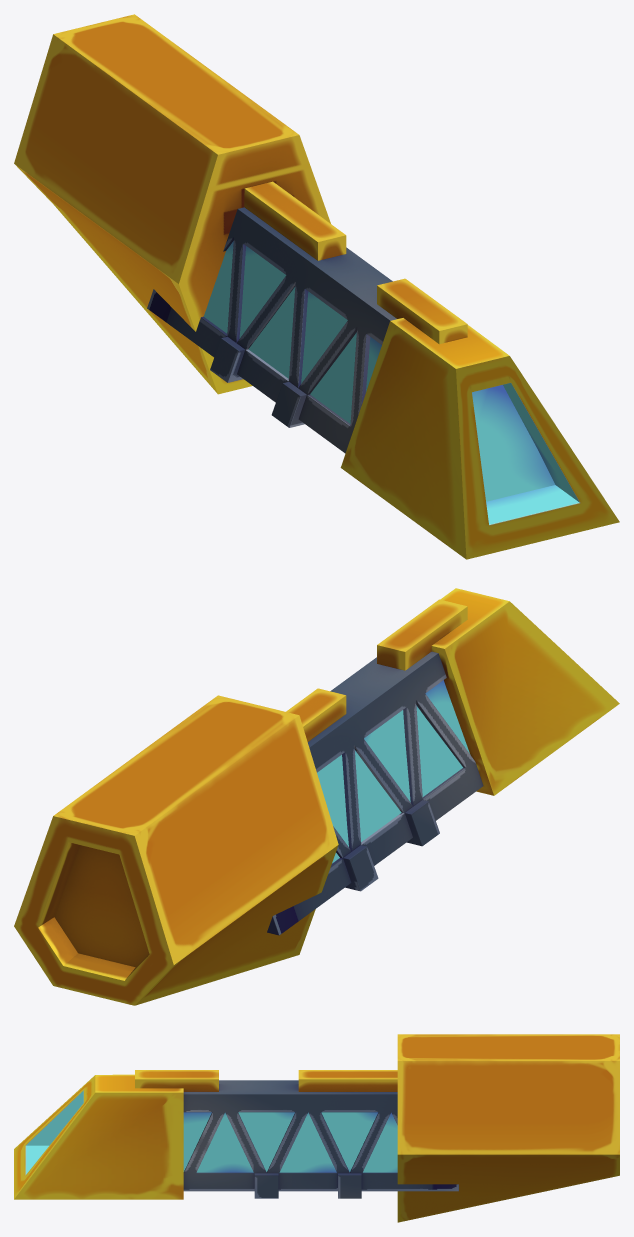
The model's file is weapon_Laser.fbx.
3 renders of one model, top to bottom at view 1: azimuth 30°, elevation 25°; view 2: azimuth 150°, elevation 25°; view 3: azimuth 270°, elevation 25°, orthographic. The views are drawn at different scales.
Visible parts, largest first — view 1: laser_body, laser_attachment, laser_energy; view 2: laser_attachment, laser_body, laser_energy; view 3: laser_attachment, laser_body, laser_energy.
Part boxes in pixels (x1,y1,x2,y2): laser_body: (147, 181, 619, 559); laser_attachment: (14, 14, 330, 394); laser_energy: (203, 241, 555, 501); laser_attachment: (14, 695, 338, 1005); laser_body: (267, 588, 619, 935); laser_energy: (317, 680, 470, 863); laser_attachment: (397, 1034, 619, 1222); laser_body: (14, 1070, 458, 1199); laser_energy: (183, 1112, 397, 1172).
Bounding box in the file's own units: 0.3972 × 0.5689 × 1.93.
